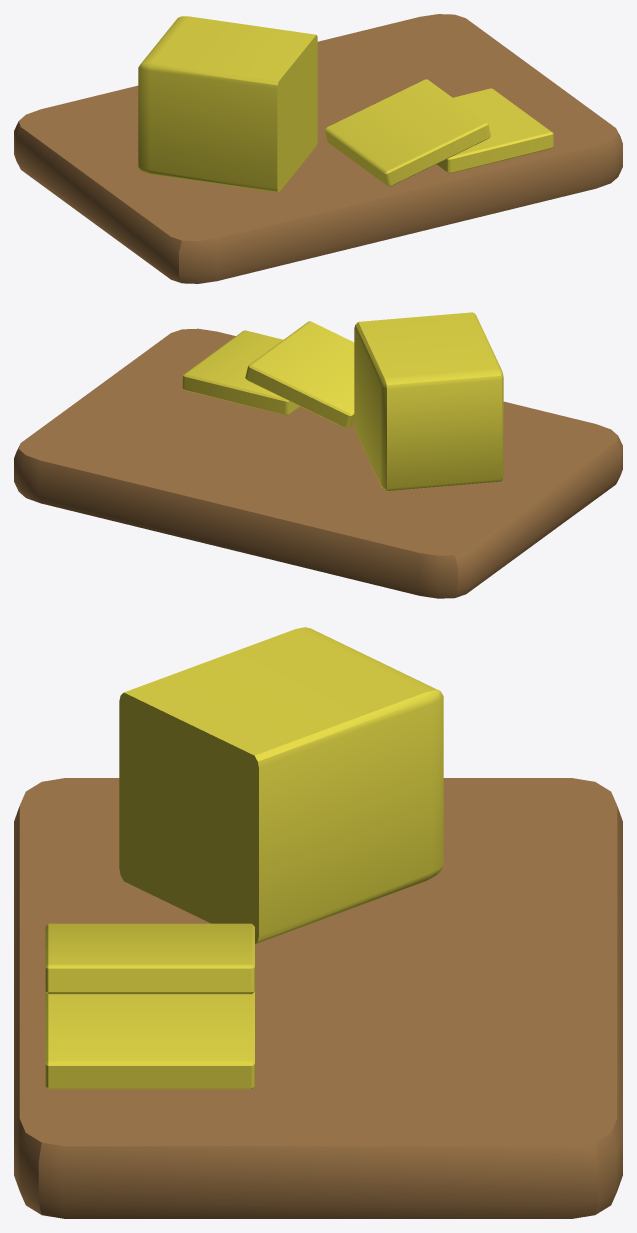
The model's file is butter on cuttting board.fbx.
3 views of the same model, one above another, from view 1: azimuth 30°, elevation 25°; view 2: azimuth 150°, elevation 25°; view 3: azimuth 270°, elevation 25° (orthographic). The views are drawn at different scales.
Parts seen in each view (by area): view 1: small cutting board; view 2: small cutting board; view 3: small cutting board.
Part boxes in pixels (x1,y1,x2,y2): small cutting board: [14, 14, 622, 283]; small cutting board: [14, 312, 622, 598]; small cutting board: [14, 627, 622, 1218].
Bounding box in the file's own units: 18.41 × 5.99 × 12.62.
